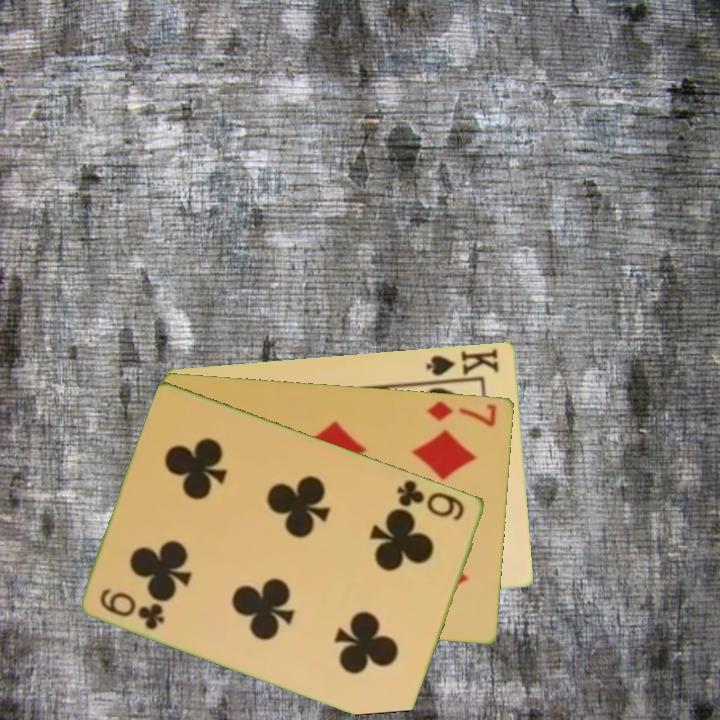6c: (393, 475, 468, 523), (96, 584, 168, 633)
7d: (424, 397, 500, 429)
Ks: (423, 345, 502, 379)
